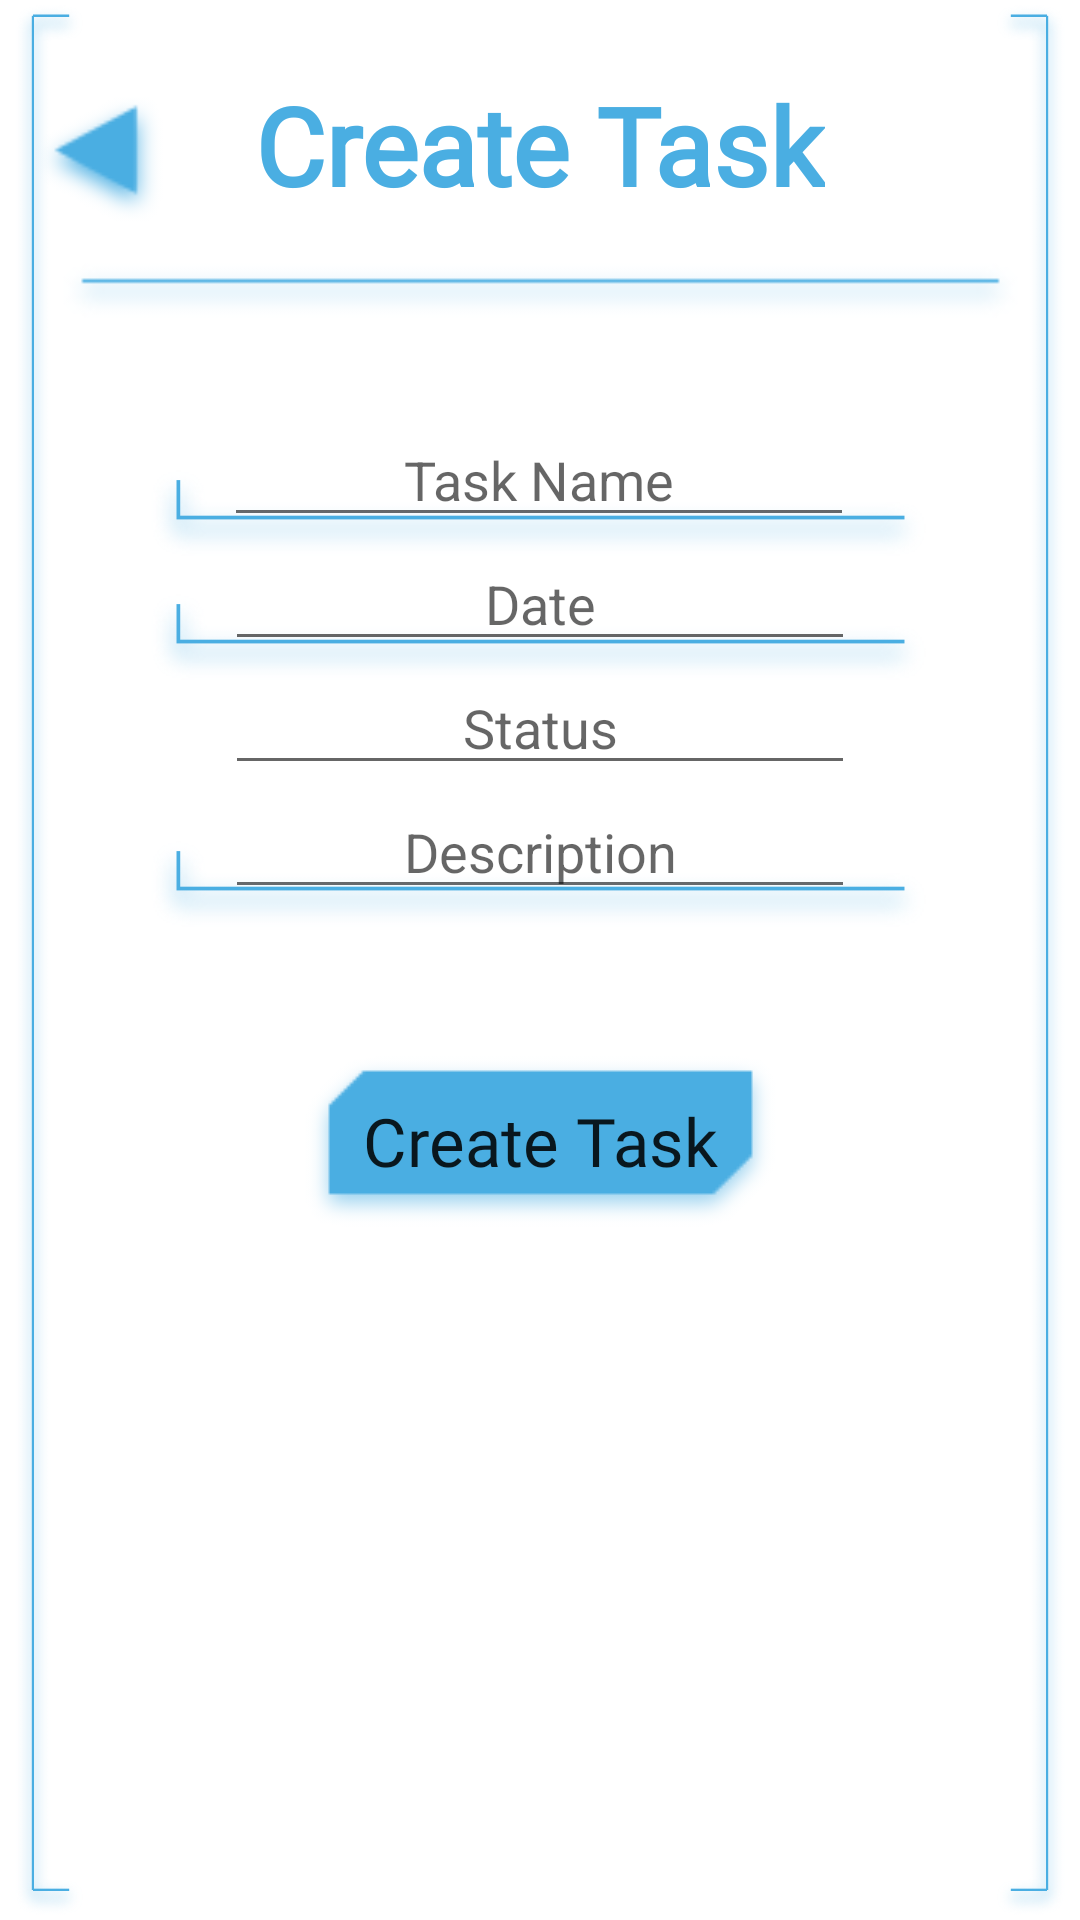

Named icons in this screenshot (1080px×1920px) and their bounding boxes, [x1=x1, y1=y1, x2=x2, y2=y2]:
back: [x1=54, y1=105, x2=148, y2=206]
